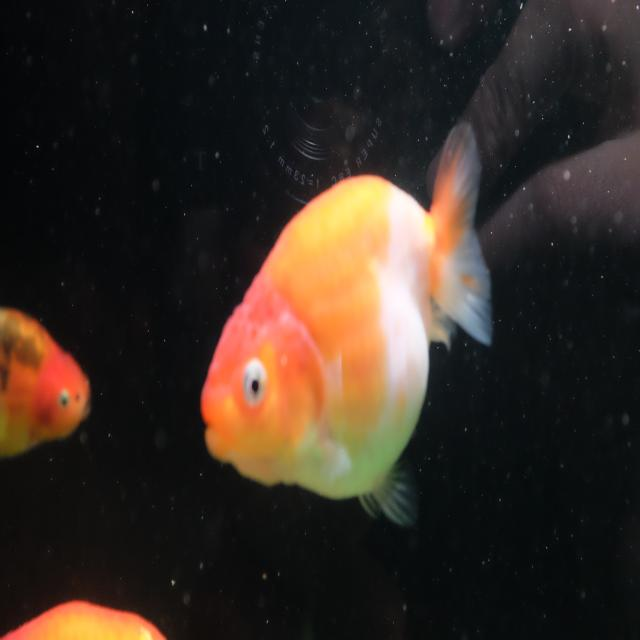Tilapia: (198, 120, 500, 532), (0, 307, 92, 463)
